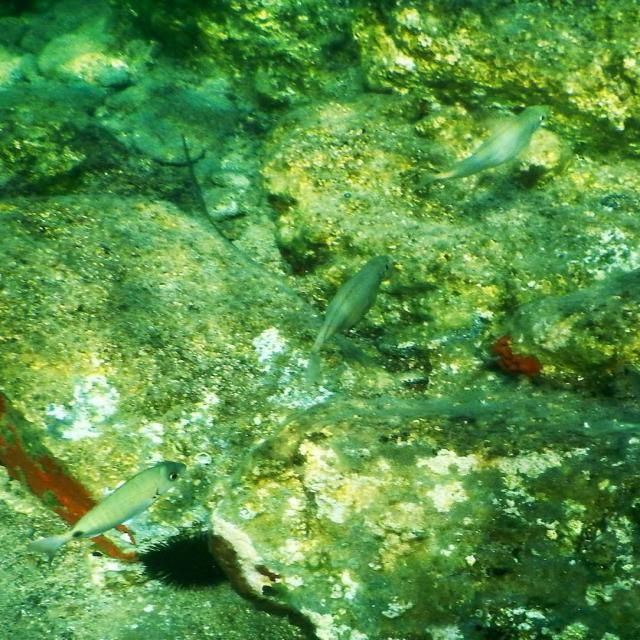Sokar Baligi: (14, 441, 202, 574), (396, 95, 571, 200)
